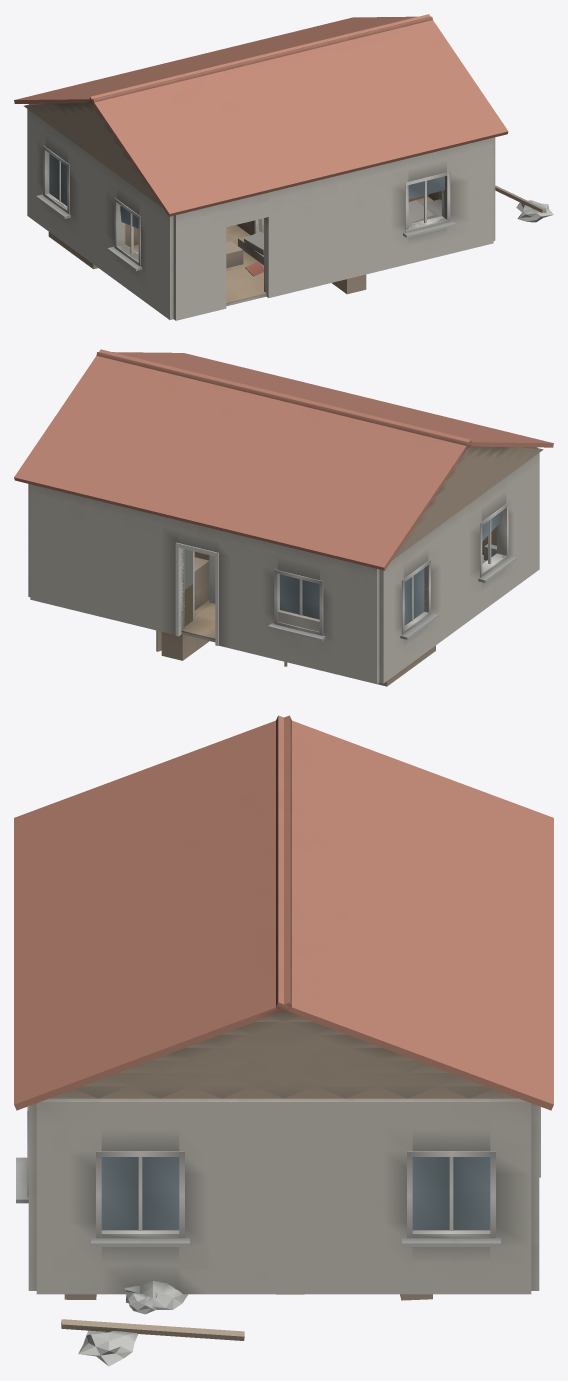
File: casa_r1.glb
3 renders of one model, top to bottom at view 1: azimuth 30°, elevation 25°; view 2: azimuth 150°, elevation 25°; view 3: azimuth 270°, elevation 25°, orthographic. The views are drawn at different scales.
Parts seen in each view (by area): view 1: telhado, ext_frente, ext_esq, acabamento, telhado_oitao0, entulho_fora, cama_quarto11, tv_sala, guarda_roupa_quarto1, mesa_centro_sala; view 2: telhado, ext_fundo, ext_esq, acabamento, telhado_oitao0, guarda_roupa_quarto2; view 3: telhado, ext_dir, telhado_oitao2, acabamento, entulho_fora, ext_frente, ext_fundo.
Part boxes in pixels (left/top/right/bottom): telhado: left=14, top=14, right=508, bottom=216; ext_frente: left=173, top=137, right=493, bottom=320; ext_esq: left=27, top=109, right=173, bottom=319; acabamento: left=36, top=145, right=455, bottom=303; telhado_oitao0: left=24, top=103, right=162, bottom=207; entulho_fora: left=495, top=185, right=553, bottom=222; cama_quarto11: left=408, top=191, right=441, bottom=223; tv_sala: left=238, top=231, right=263, bottom=264; guarda_roupa_quarto1: left=332, top=274, right=366, bottom=294; mesa_centro_sala: left=226, top=241, right=243, bottom=268; telhado: left=14, top=349, right=553, bottom=570; ext_fundo: left=30, top=484, right=379, bottom=684; ext_esq: left=379, top=453, right=539, bottom=683; acabamento: left=175, top=503, right=516, bottom=645; telhado_oitao0: left=392, top=446, right=543, bottom=560; guarda_roupa_quarto2: left=156, top=557, right=209, bottom=660; telhado: left=14, top=715, right=553, bottom=1110; ext_dir: left=36, top=1098, right=531, bottom=1294; telhado_oitao2: left=49, top=1011, right=518, bottom=1098; acabamento: left=16, top=1106, right=540, bottom=1246; entulho_fora: left=61, top=1280, right=244, bottom=1366; ext_frente: left=28, top=1103, right=36, bottom=1290; ext_fundo: left=531, top=1103, right=539, bottom=1290.
Size of what is drawn, in the model's own units: 11.56 by 5.59 by 7.64.
